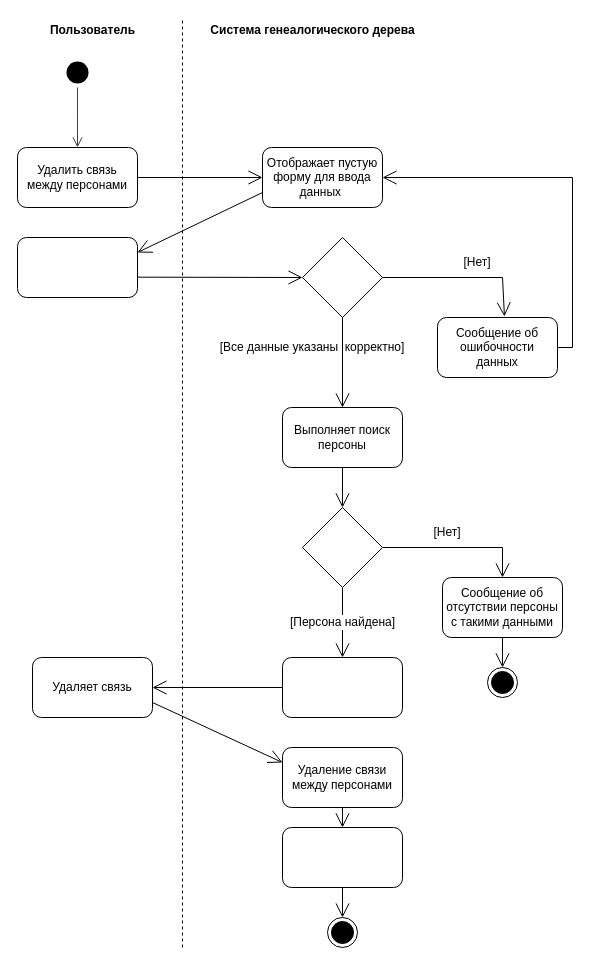
The diagram is 604 pixels wide and 966 high, and some of its shapes have lost their labels. The shapes that lost their labels are listed below. From the top down, each one's box as (x1, y1, x2, y2) in pixels, then its label:
(16, 236, 138, 298): Вводит данные о персоне
(282, 656, 402, 718): Отображает список связей этой персоны
(282, 826, 402, 888): Уведомление пользователя
